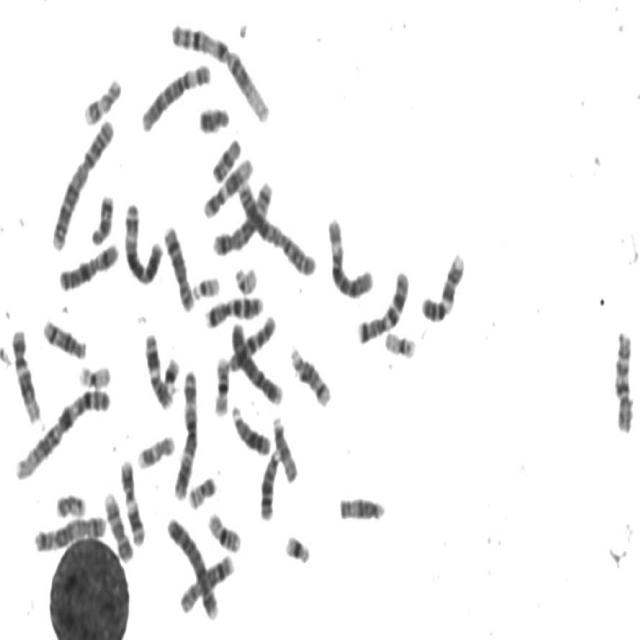A1: (166, 13, 273, 124), (11, 378, 112, 482)
A2: (47, 109, 116, 252), (234, 173, 318, 277)
A3: (118, 193, 166, 287), (169, 362, 200, 502)
B4: (163, 508, 221, 622), (226, 313, 284, 406)
B5: (209, 172, 275, 257), (30, 508, 108, 554)
C10: (225, 307, 278, 373), (610, 321, 636, 435)
C11: (140, 324, 175, 411), (116, 450, 147, 548)
C12: (198, 150, 256, 220), (7, 320, 43, 424)
C6: (137, 54, 213, 134), (323, 208, 376, 300)
C7: (353, 262, 411, 346), (201, 286, 266, 330)
C8: (176, 546, 236, 615), (159, 217, 197, 313)
C9: (417, 243, 466, 324), (100, 484, 135, 564)
D13: (227, 397, 273, 458), (256, 442, 283, 523)
D14: (286, 338, 333, 409), (38, 310, 89, 360)
D15: (269, 408, 300, 483), (336, 487, 388, 524)
E16: (203, 504, 243, 554), (209, 348, 232, 418)
E17: (79, 69, 123, 127), (133, 426, 177, 471)
E18: (208, 129, 244, 184), (86, 186, 116, 247)
F19: (380, 322, 418, 359), (74, 355, 113, 390)
F20: (184, 467, 218, 511), (51, 485, 88, 519)
G21: (281, 526, 312, 567), (160, 348, 181, 394)
G22: (230, 257, 260, 295), (188, 268, 222, 301)
X: (54, 235, 121, 292)
Y: (194, 97, 232, 135)
